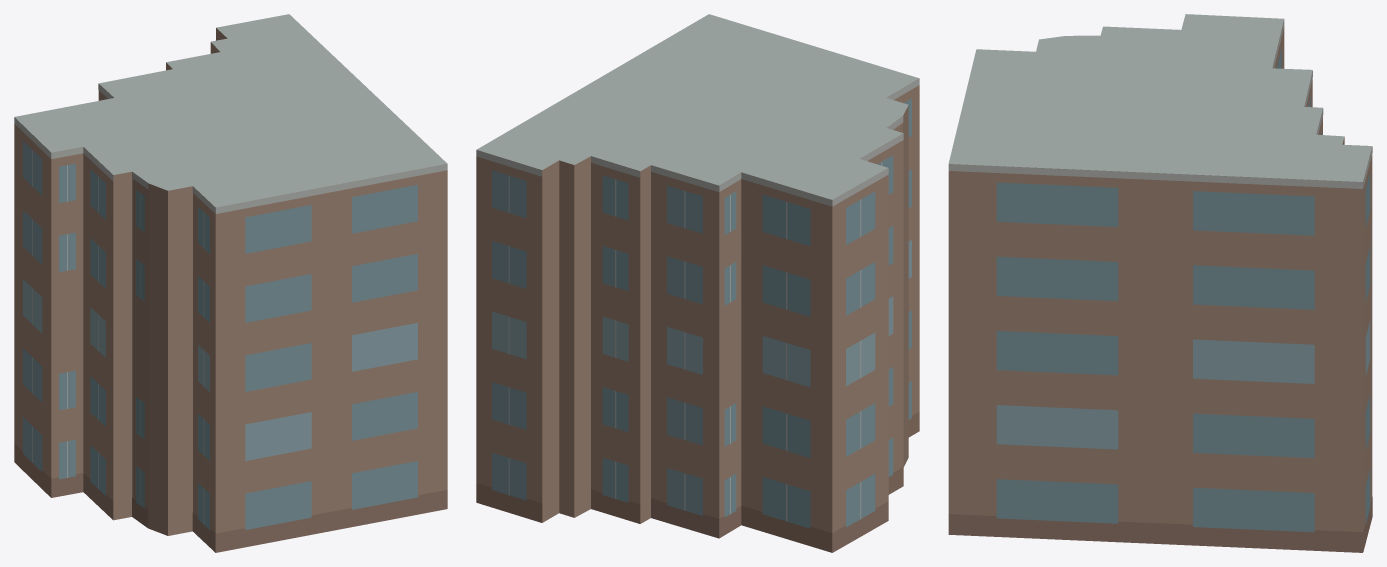
Rendered from survey-upis-32670747.glb.
The picture shows the model from 3 angles, left to right: view 1: azimuth 30°, elevation 25°; view 2: azimuth 150°, elevation 25°; view 3: azimuth 270°, elevation 25°; orthographic projection. The views are drawn at different scales.
Parts seen in each view (by area): view 1: survey-upis-32670747.tmp; view 2: survey-upis-32670747.tmp; view 3: survey-upis-32670747.tmp.
Part boxes in pixels (x1=…): survey-upis-32670747.tmp: x1=14, y1=14, x2=447, y2=552; survey-upis-32670747.tmp: x1=476, y1=14, x2=919, y2=552; survey-upis-32670747.tmp: x1=948, y1=14, x2=1372, y2=552.
Size of the model in its own units: 12.65 by 13 by 13.48.
